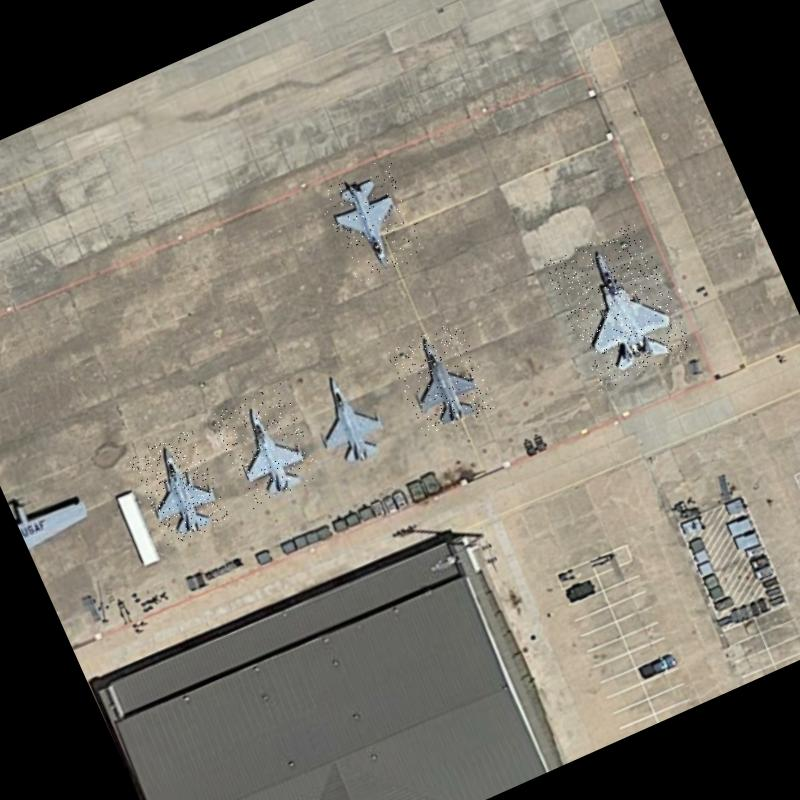A13: (543, 221, 695, 392)
A5: (314, 156, 433, 286), (210, 382, 324, 510), (386, 319, 498, 440), (295, 360, 402, 480), (127, 427, 232, 548)
